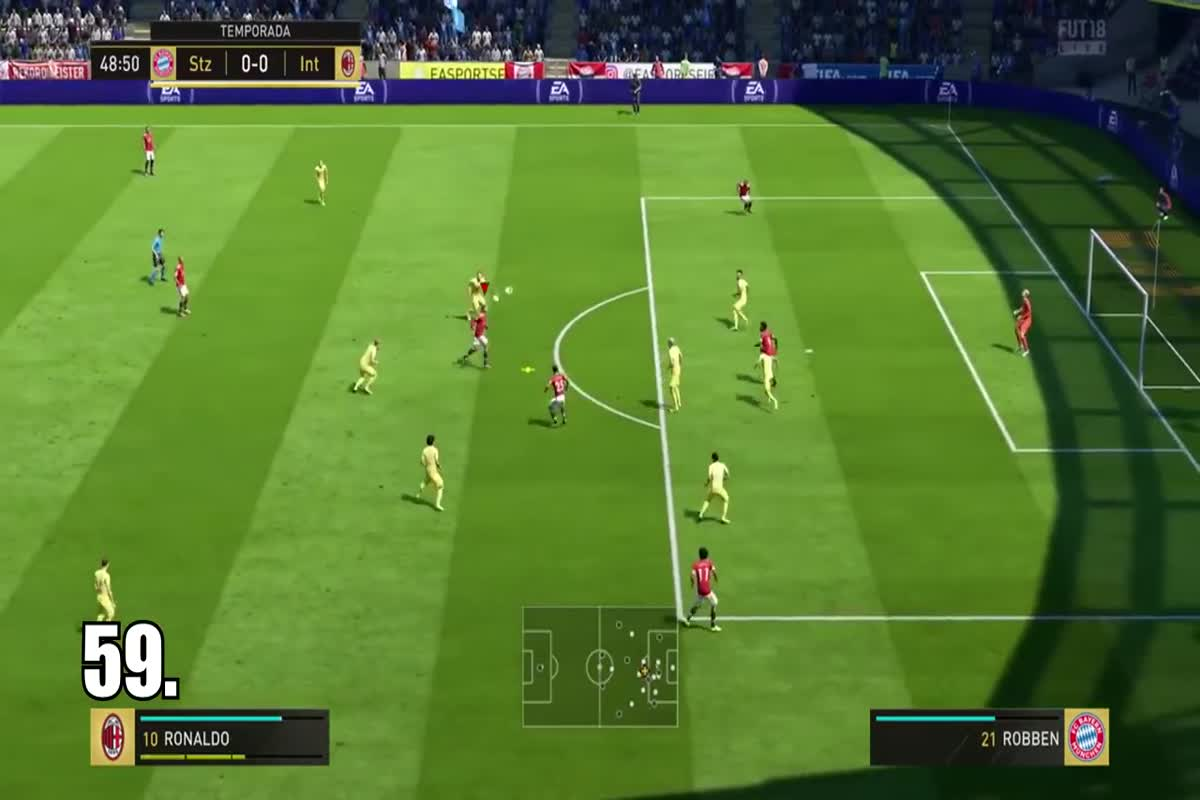ball: (490, 290, 504, 310)
